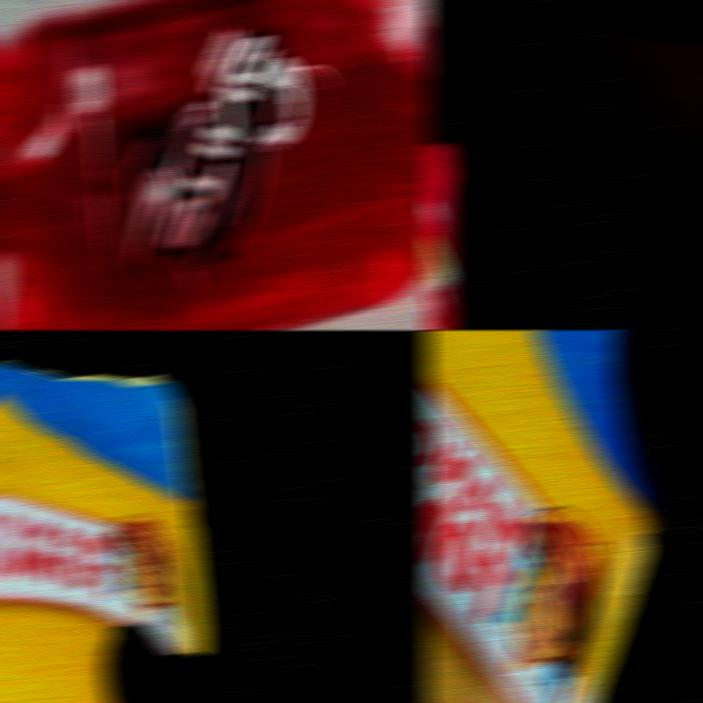mang tomas: (424, 330, 660, 703), (0, 361, 209, 703)
sting: (0, 0, 432, 330)
